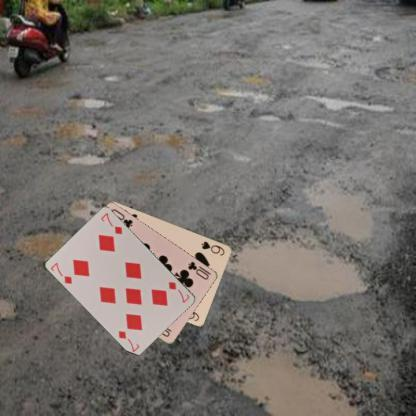10c: (186, 259, 210, 281)
6s: (199, 238, 226, 257)
7d: (48, 260, 74, 285), (166, 279, 191, 304)
